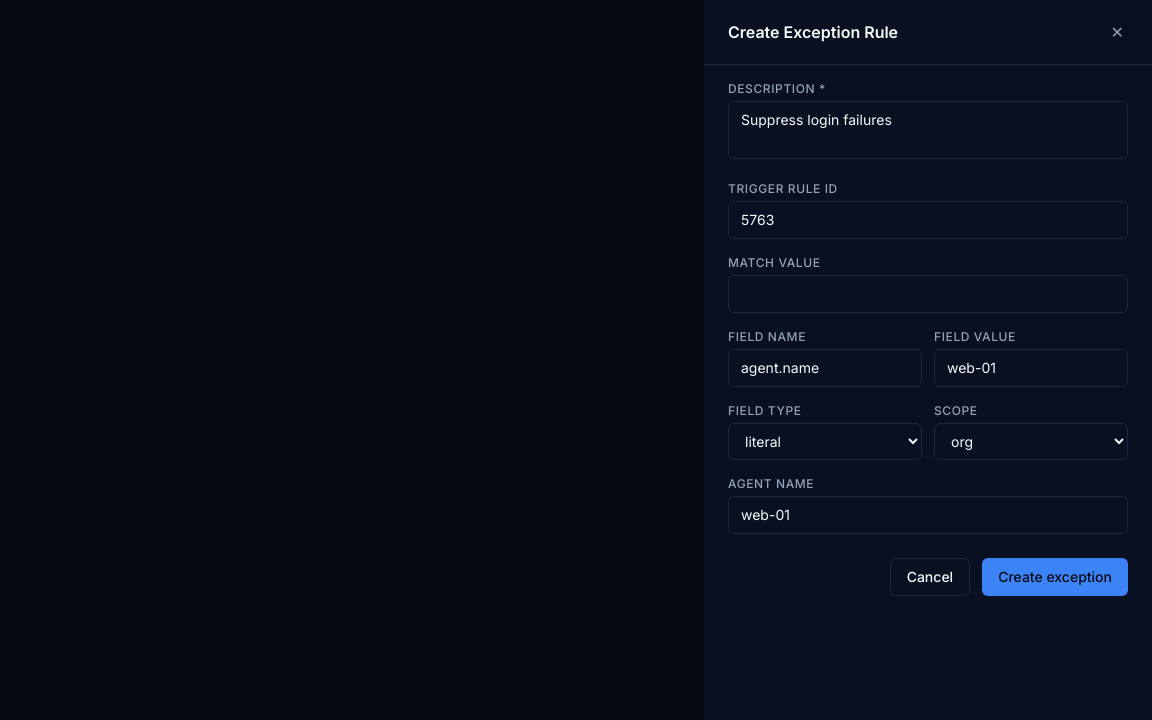
Test: CreateExceptionSlideOver › shows success message after successful submission
The width and height of the screenshot is (1152, 720).
Click the button "Create exception" at x=1055, y=577, box [982, 558, 1128, 596]
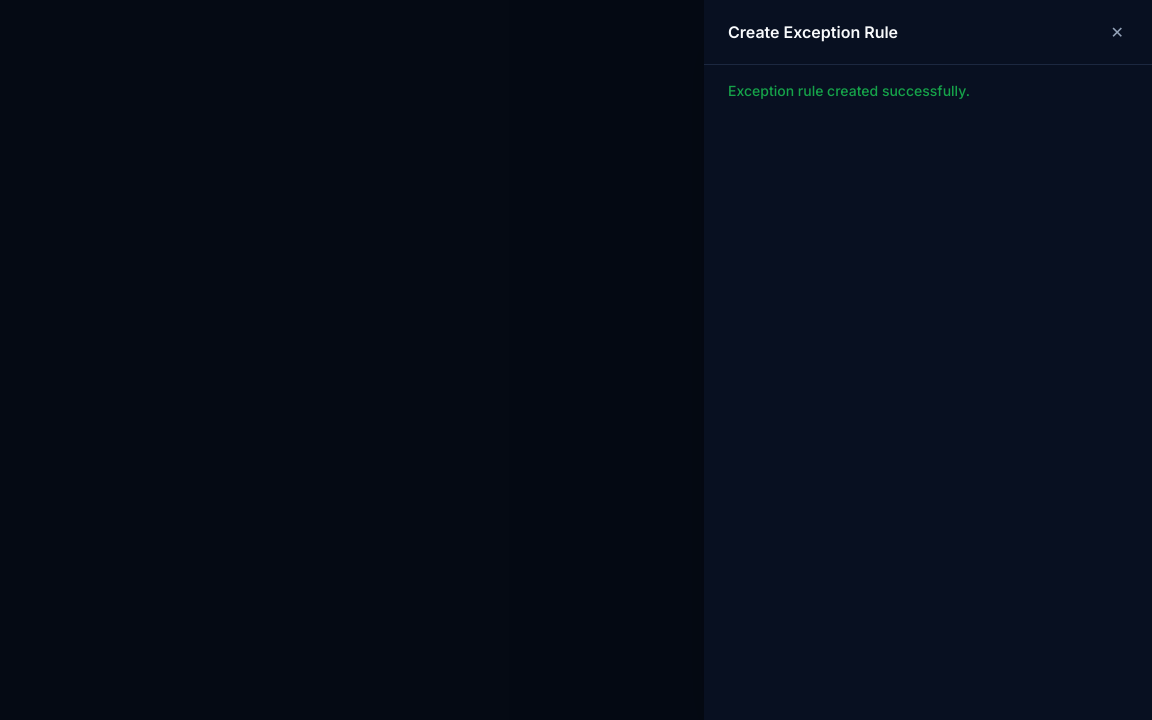
Check: the text "Exception rule created successfully." is shown, box [728, 82, 970, 99]
